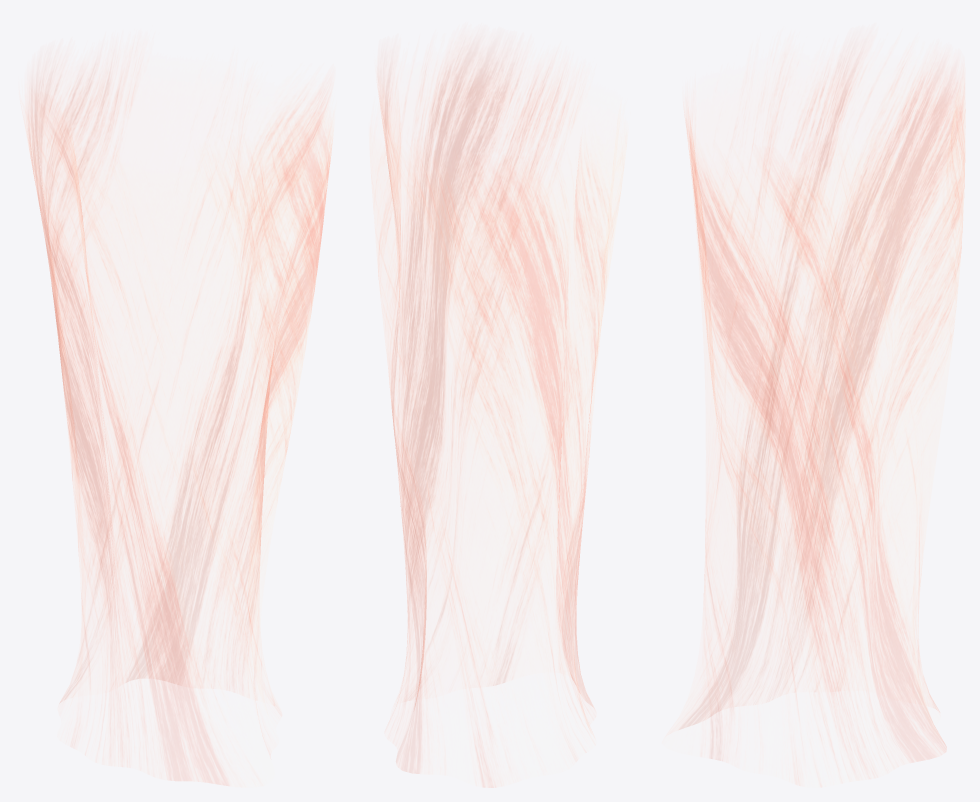
File: devil_outer_1.glb
3 views of the same model, side by side, from view 1: azimuth 30°, elevation 25°; view 2: azimuth 150°, elevation 25°; view 3: azimuth 270°, elevation 25° (orthographic). The views are drawn at different scales.
Parts seen in each view (by area): view 1: devil_outer_1; view 2: devil_outer_1; view 3: devil_outer_1.
Boxes of the visible parts, x1,y1,x2,y2 form: devil_outer_1: [24, 64, 333, 785]; devil_outer_1: [370, 47, 626, 787]; devil_outer_1: [678, 54, 965, 786].
Bounding box in the file's own units: 8.77 × 21.2 × 8.8.
Materials: 1 (1 with a texture image).
